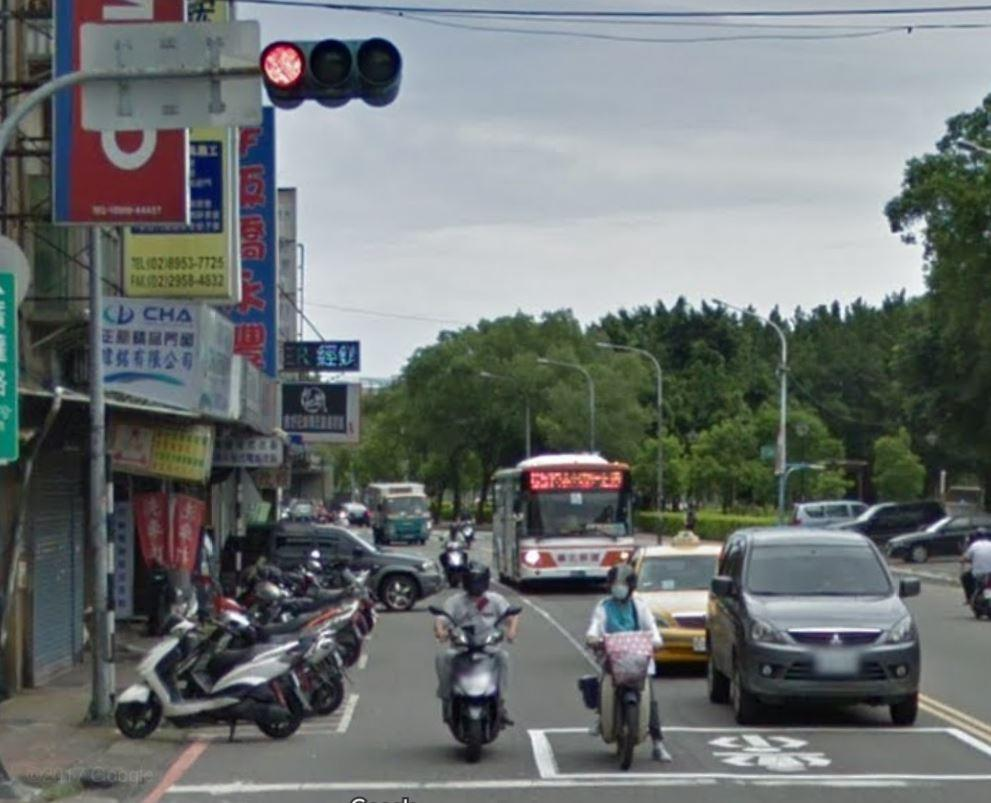red_traffic_light: (258, 38, 401, 95)
